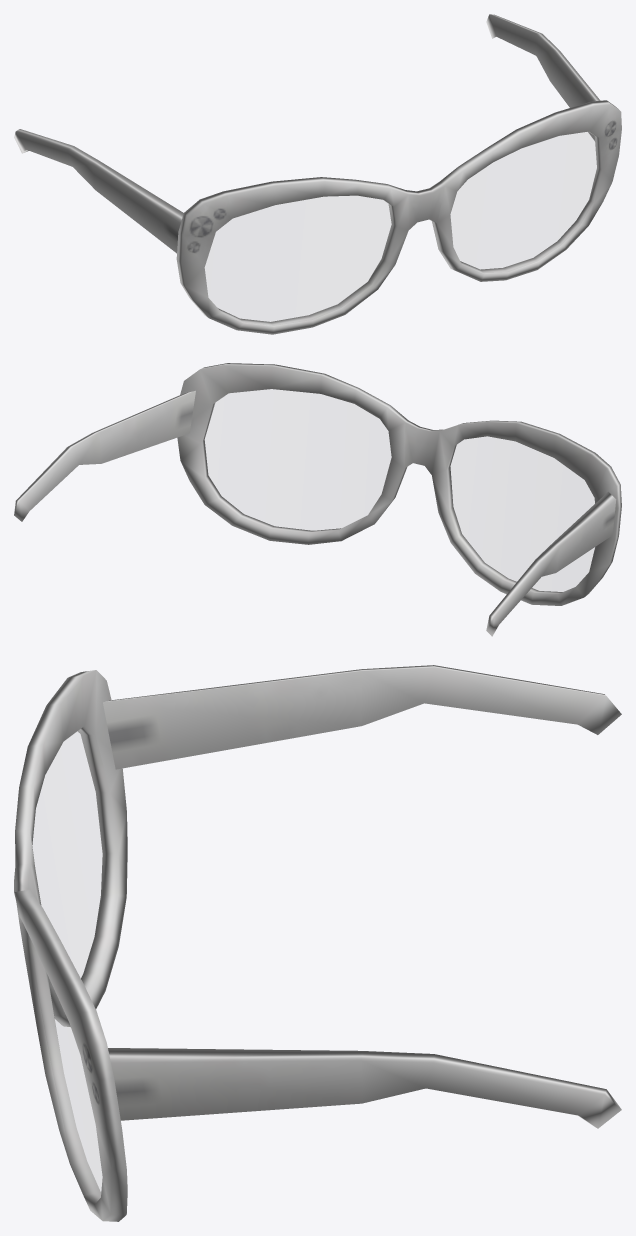
The model's file is p0_eyw0007_00_eyw00.gltf.
3 renders of one model, top to bottom at view 1: azimuth 30°, elevation 25°; view 2: azimuth 150°, elevation 25°; view 3: azimuth 270°, elevation 25°, orthographic. The views are drawn at different scales.
Visible parts, largest first — view 1: eyw00_frame_mesh_shape:eyewear, eyw00_temple_mesh_shape:eyewear; view 2: eyw00_frame_mesh_shape:eyewear, eyw00_temple_mesh_shape:eyewear; view 3: eyw00_temple_mesh_shape:eyewear, eyw00_frame_mesh_shape:eyewear.
Boxes of the visible parts, x1,y1,x2,y2 form: eyw00_frame_mesh_shape:eyewear: (176, 100, 621, 334); eyw00_temple_mesh_shape:eyewear: (14, 14, 600, 253); eyw00_frame_mesh_shape:eyewear: (177, 363, 621, 605); eyw00_temple_mesh_shape:eyewear: (14, 390, 616, 636); eyw00_temple_mesh_shape:eyewear: (103, 665, 621, 1128); eyw00_frame_mesh_shape:eyewear: (14, 670, 127, 1221).
Size of what is drawn, in the model's own units: 0.2176 by 0.0704 by 0.1395.
Materials: 1 (1 with a texture image).
